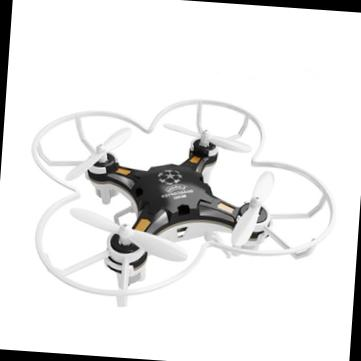drone: (8, 75, 340, 322)
